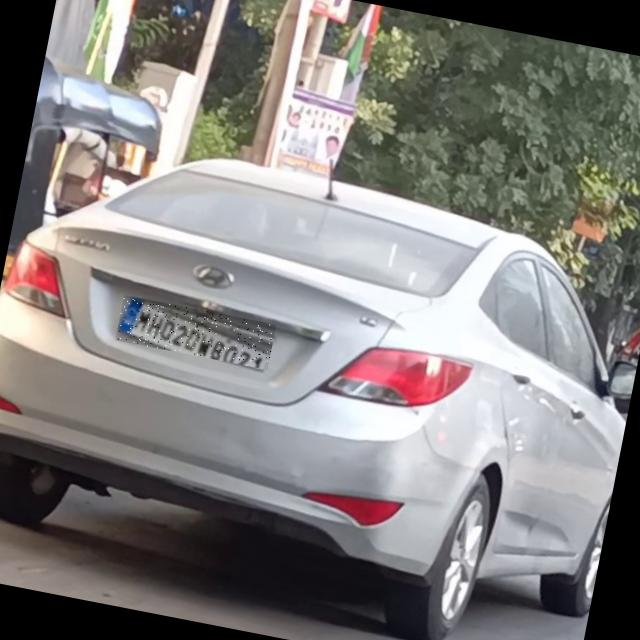Plate: (117, 296, 278, 371)
